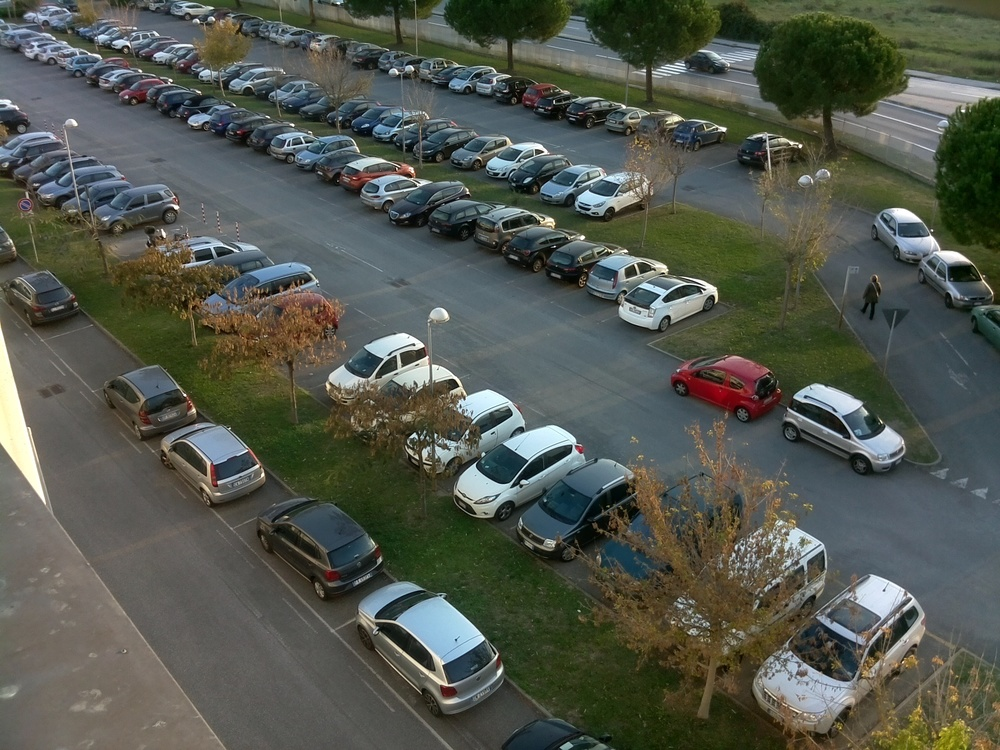Car: (751, 574, 926, 736), (660, 518, 829, 671), (356, 582, 504, 716), (592, 474, 742, 606), (256, 497, 384, 600), (453, 425, 586, 522), (516, 458, 634, 561), (782, 384, 906, 475), (406, 390, 526, 474), (159, 422, 265, 507), (350, 365, 466, 436), (671, 355, 782, 423), (325, 333, 429, 405), (103, 365, 196, 439), (237, 292, 339, 356), (203, 262, 322, 314), (618, 276, 719, 333), (182, 250, 274, 307), (917, 250, 993, 308), (95, 185, 179, 234), (586, 254, 668, 304), (4, 271, 79, 325), (870, 208, 941, 263), (37, 165, 125, 207), (546, 241, 626, 287), (501, 718, 615, 750), (503, 227, 584, 272), (474, 207, 555, 252), (388, 181, 470, 225), (575, 172, 650, 220), (156, 236, 260, 269), (428, 200, 504, 240), (540, 164, 605, 207), (27, 156, 102, 193), (360, 176, 435, 213), (62, 180, 133, 219), (339, 158, 417, 192), (0, 138, 67, 177), (508, 155, 571, 194), (295, 135, 361, 172), (486, 142, 550, 180), (737, 133, 804, 169), (13, 149, 80, 185), (412, 128, 480, 163), (226, 116, 296, 146), (299, 92, 368, 122), (451, 136, 513, 169), (251, 123, 313, 155), (394, 120, 458, 151), (372, 110, 431, 143), (565, 97, 625, 129), (315, 150, 370, 184), (176, 94, 238, 123), (669, 120, 727, 151), (229, 66, 287, 96), (209, 108, 271, 136), (270, 132, 324, 164), (635, 113, 686, 145), (351, 105, 407, 134), (327, 100, 382, 128), (0, 132, 57, 159), (213, 63, 266, 90), (970, 305, 1000, 352), (254, 74, 308, 100), (448, 66, 497, 94), (533, 92, 582, 120), (604, 108, 653, 136), (146, 83, 202, 107), (114, 72, 174, 94), (86, 63, 143, 86), (119, 79, 166, 106), (268, 81, 317, 106), (522, 83, 570, 108), (281, 88, 329, 113), (188, 104, 232, 131), (493, 77, 538, 103), (156, 90, 199, 117), (111, 31, 161, 54), (418, 58, 464, 82), (685, 50, 729, 74), (1, 30, 56, 49), (198, 61, 243, 84), (57, 48, 103, 69), (138, 40, 181, 62), (80, 19, 125, 39), (153, 43, 195, 64), (345, 42, 389, 62), (98, 70, 136, 93), (6, 33, 52, 52), (476, 73, 512, 97), (430, 66, 471, 87), (94, 27, 138, 46), (132, 36, 175, 55), (21, 37, 69, 54), (377, 51, 414, 73), (86, 25, 133, 42), (66, 56, 102, 78), (166, 47, 202, 69), (391, 56, 428, 77), (104, 30, 149, 47), (37, 45, 75, 65), (351, 48, 387, 69), (0, 109, 30, 133), (175, 2, 215, 20), (276, 28, 312, 48), (24, 42, 61, 61), (0, 227, 18, 265), (225, 13, 263, 31), (23, 5, 61, 23), (310, 35, 343, 55), (37, 8, 71, 26), (50, 13, 82, 31), (177, 51, 202, 73), (196, 8, 230, 24), (75, 18, 108, 34), (328, 39, 359, 56), (242, 20, 271, 38), (259, 22, 288, 39), (0, 23, 33, 37), (269, 25, 296, 42), (299, 32, 325, 49), (94, 57, 130, 68), (58, 20, 85, 34), (148, 0, 174, 13), (212, 11, 238, 24), (163, 0, 183, 16), (191, 61, 208, 78), (170, 1, 189, 15), (0, 98, 20, 111), (58, 0, 78, 12), (135, 0, 150, 11), (127, 0, 143, 9), (0, 18, 5, 23)
